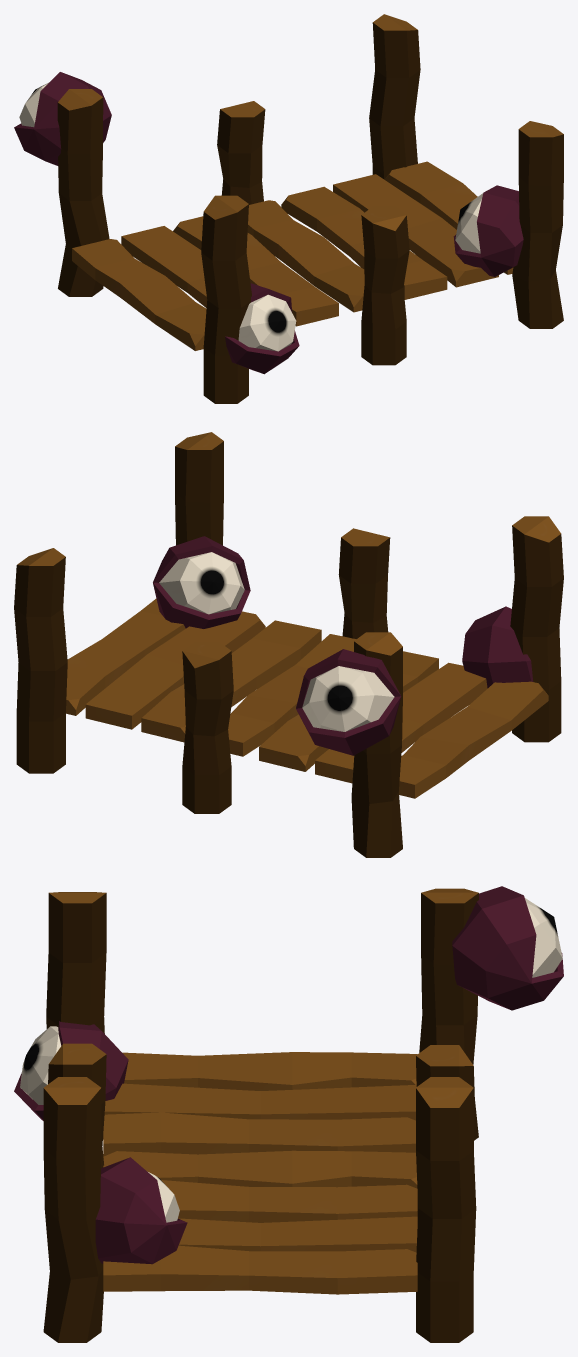
File: Marina_Eye.fbx
3 renders of one model, top to bottom at view 1: azimuth 30°, elevation 25°; view 2: azimuth 150°, elevation 25°; view 3: azimuth 270°, elevation 25°, orthographic. The views are drawn at different scales.
Visible parts, largest first — view 1: Marina_eye; view 2: Marina_eye; view 3: Marina_eye.
Part boxes in pixels (box(x1,y1,x2,y2)): Marina_eye: box(14, 14, 563, 403); Marina_eye: box(14, 432, 563, 857); Marina_eye: box(14, 886, 563, 1342).
Size of the model in its own units: 2.63 by 1.3 by 2.62.
